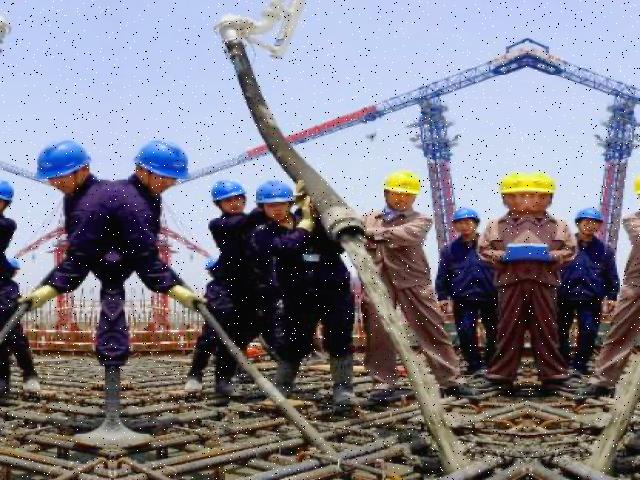Helmet: (130, 134, 194, 184), (29, 135, 92, 184), (496, 167, 562, 204), (250, 176, 298, 208), (377, 166, 424, 198), (205, 176, 247, 206), (442, 204, 484, 224), (571, 204, 605, 224)
